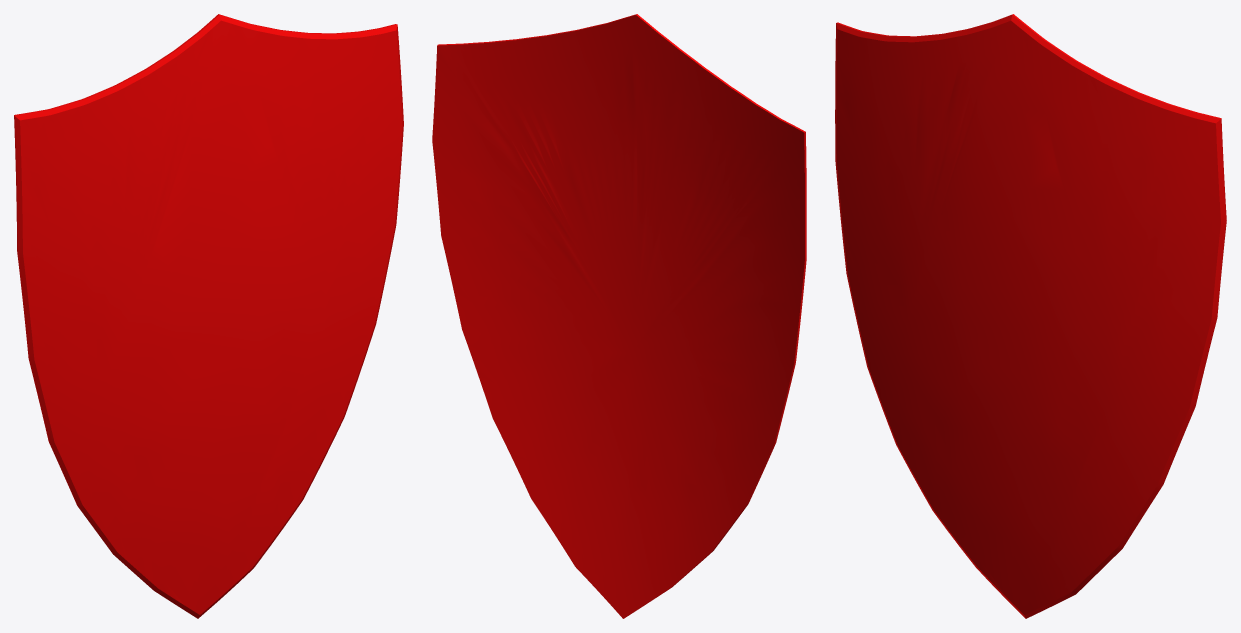
Rendered from Shield.FBX.
3 renders of one model, left to right at view 1: azimuth 30°, elevation 25°; view 2: azimuth 150°, elevation 25°; view 3: azimuth 330°, elevation 25°, orthographic. The views are drawn at different scales.
Parts seen in each view (by area): view 1: Line001; view 2: Line001; view 3: Line001.
Part boxes in pixels (x1,y1,x2,y2): Line001: (14, 14, 403, 618); Line001: (432, 14, 806, 618); Line001: (835, 14, 1226, 618).
Size of the model in its own units: 29.22 by 44.2 by 3.13.
